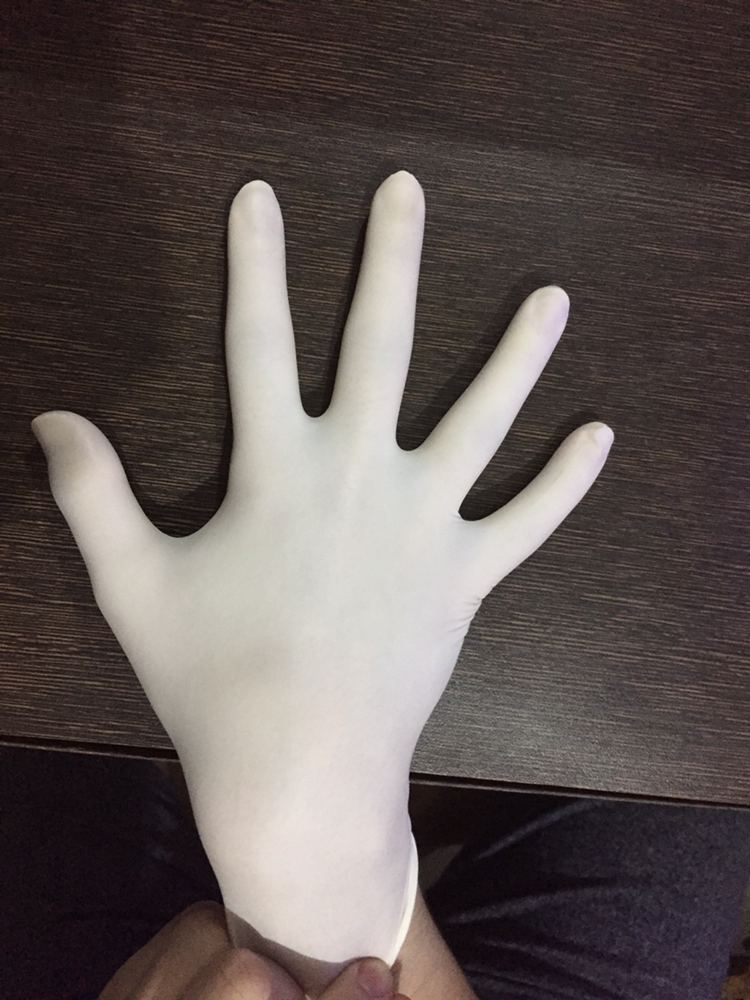glove: (3, 118, 686, 903)
